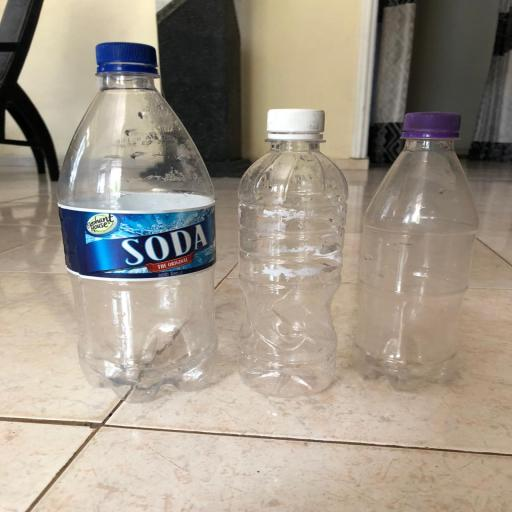waste: (59, 34, 231, 420), (365, 105, 481, 401), (238, 98, 348, 405)
